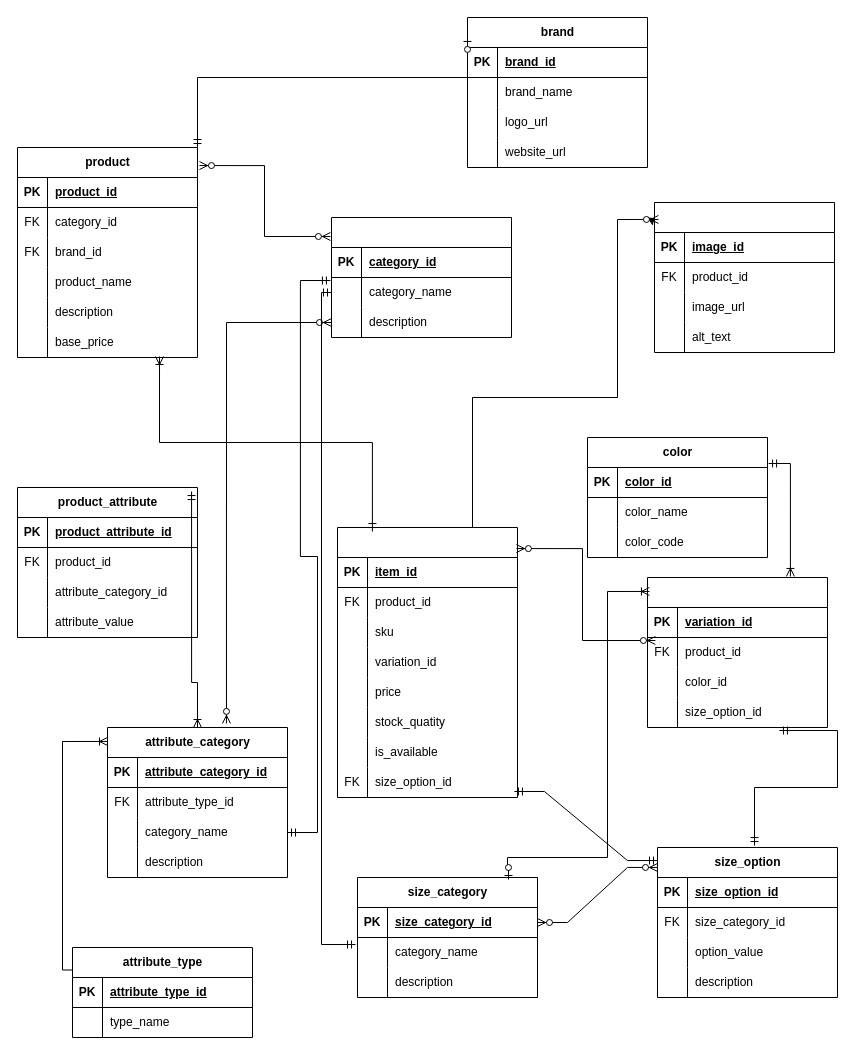
Image size: 864x1055. Some labels were removed from this diagram. Here are the shapes that lost their labels. From the top down, the box of each, then its label:
(330, 216, 512, 338): product_category
(654, 202, 834, 352): product_image
(336, 526, 518, 798): product_item
(646, 576, 828, 728): product_variation
